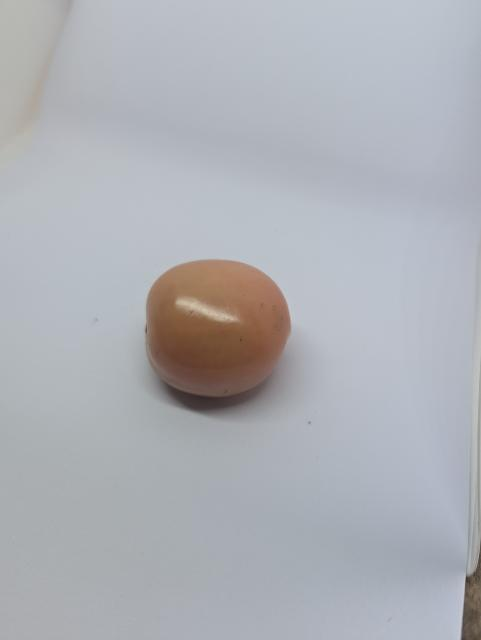turning: (128, 250, 300, 406)
